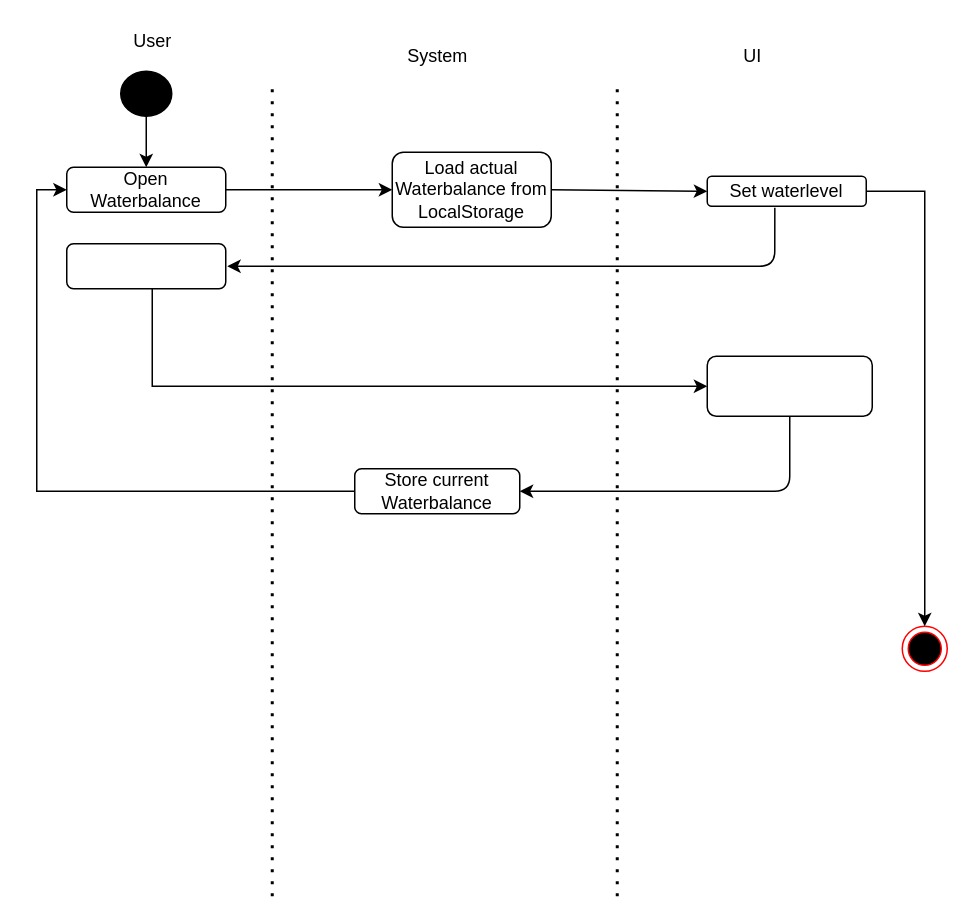
The diagram is 974 pixels wide and 924 high, and some of its shapes have lost their labels. Here are the shapes that lost their labels. From the top down, the box of each, then its label:
(65, 242, 226, 289): Add Water Consumption
(706, 355, 872, 416): Show Dialog Choose Water Amount
